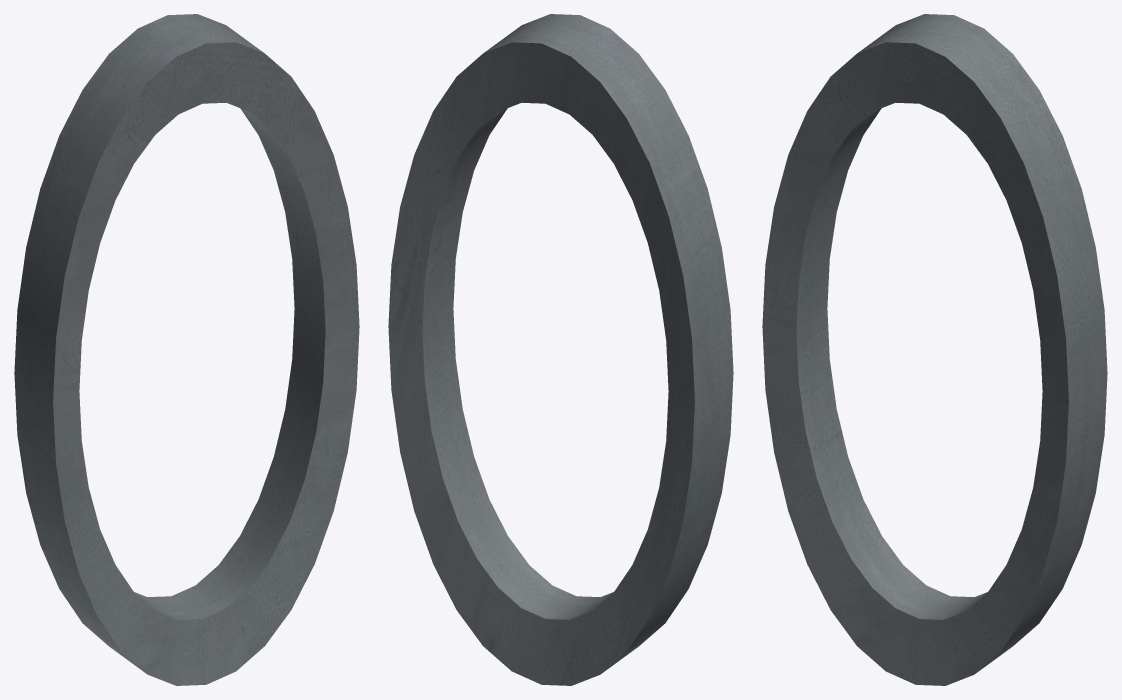
File: portal.glb
3 views of the same model, side by side, from view 1: azimuth 30°, elevation 25°; view 2: azimuth 150°, elevation 25°; view 3: azimuth 330°, elevation 25° (orthographic).
Parts seen in each view (by area): view 1: PortalFrame; view 2: PortalFrame; view 3: PortalFrame.
Boxes of the visible parts, x1,y1,x2,y2 form: PortalFrame: (14, 14, 359, 685); PortalFrame: (388, 14, 733, 685); PortalFrame: (762, 14, 1107, 685).
Bounding box in the file's own units: 2 × 4 × 0.437.
1 material, 1 textured.
